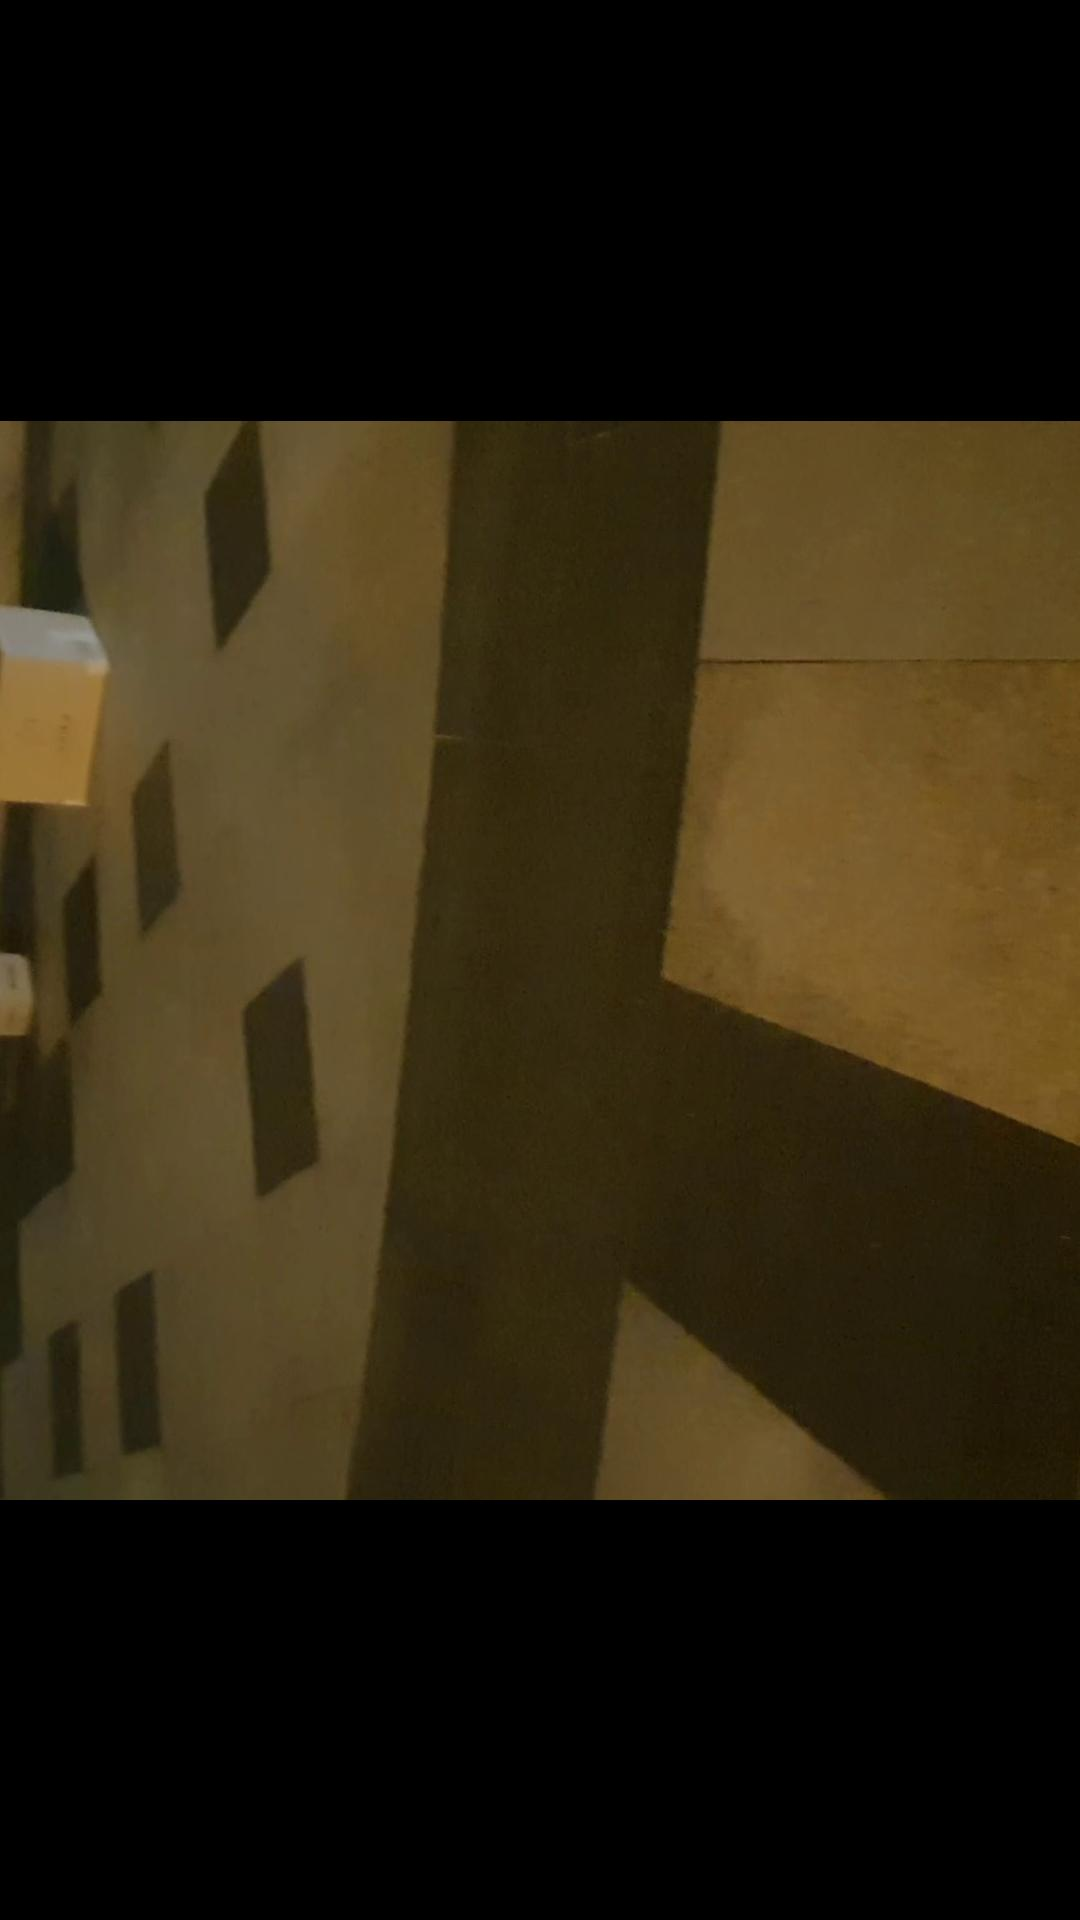Box: (0, 591, 123, 812), (0, 945, 40, 1047)
